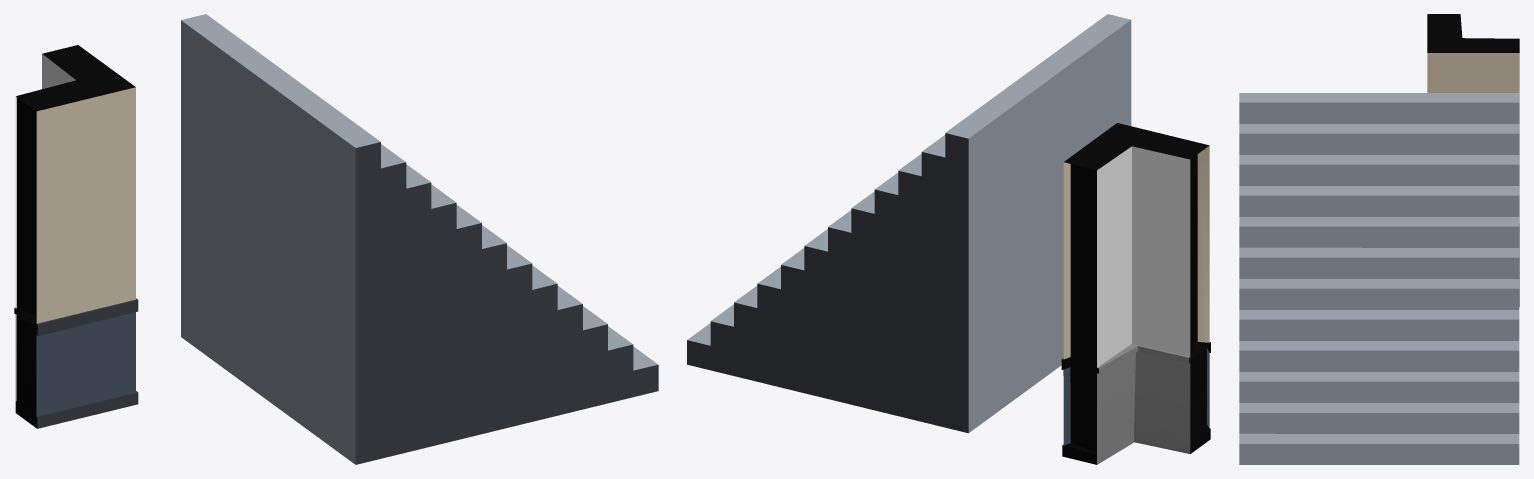
Rendered from Cosas3.fbx.
The picture shows the model from 3 angles, left to right: view 1: azimuth 30°, elevation 25°; view 2: azimuth 150°, elevation 25°; view 3: azimuth 270°, elevation 25°; orthographic projection. The views are drawn at different scales.
Visible parts, largest first — view 1: Escalera, WallCorner; view 2: Escalera, WallCorner; view 3: Escalera, WallCorner.
Part boxes in pixels (x1=…): Escalera: x1=181, y1=14, x2=658, y2=464; WallCorner: x1=14, y1=45, x2=138, y2=428; Escalera: x1=687, y1=14, x2=1131, y2=433; WallCorner: x1=1061, y1=123, x2=1210, y2=464; Escalera: x1=1239, y1=93, x2=1519, y2=464; WallCorner: x1=1427, y1=14, x2=1519, y2=306.
Bounding box in the file's own units: 500 × 301 × 301.
2 materials, 2 textured.
